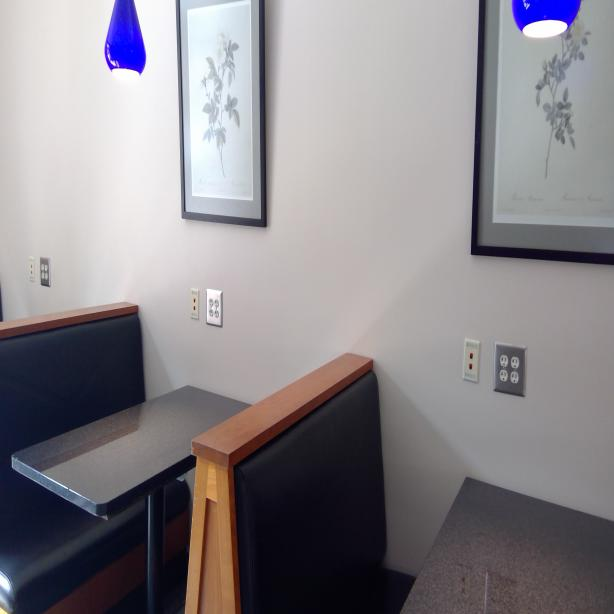typeb: (500, 355, 510, 370), (511, 356, 520, 370), (499, 369, 506, 383), (511, 372, 519, 384), (214, 298, 220, 308), (207, 308, 213, 318), (215, 310, 219, 320), (209, 299, 213, 307)
